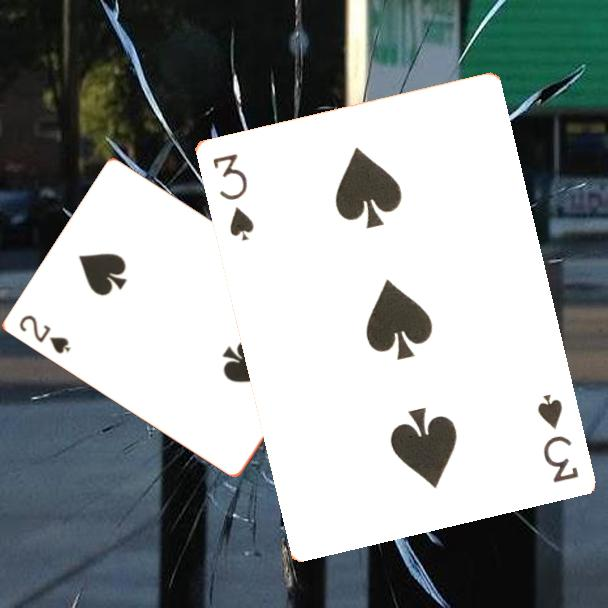s02: (16, 311, 74, 357)
s03: (533, 390, 581, 486), (208, 149, 257, 243)
